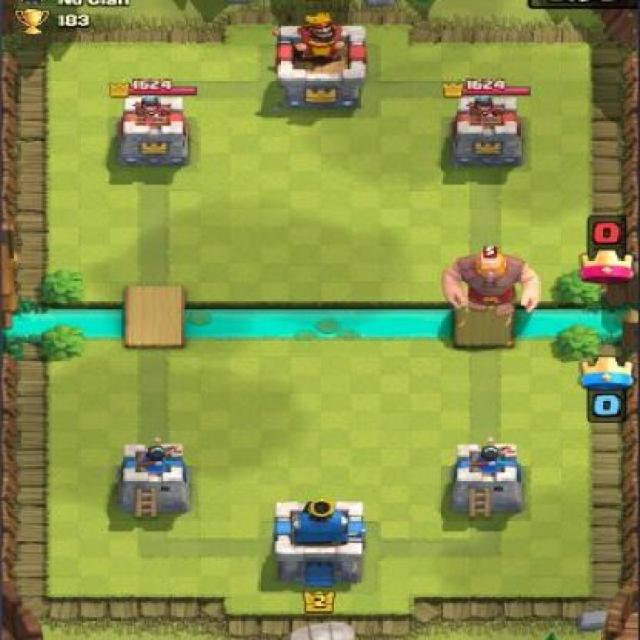Enemy-Giant: (437, 244, 545, 322)
